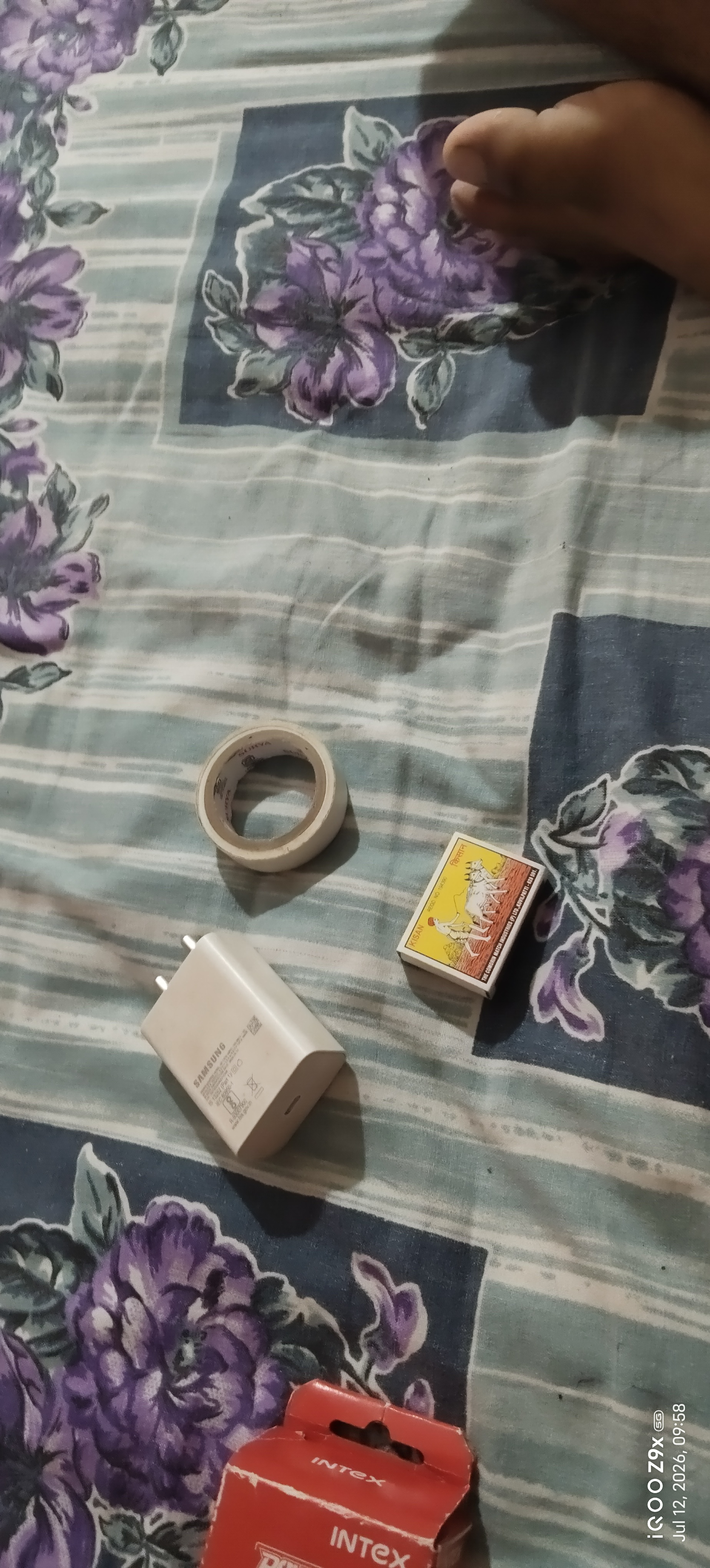charger: (130, 917, 359, 1172)
matchbox: (393, 816, 552, 1017)
tape_roll: (190, 714, 357, 892)
